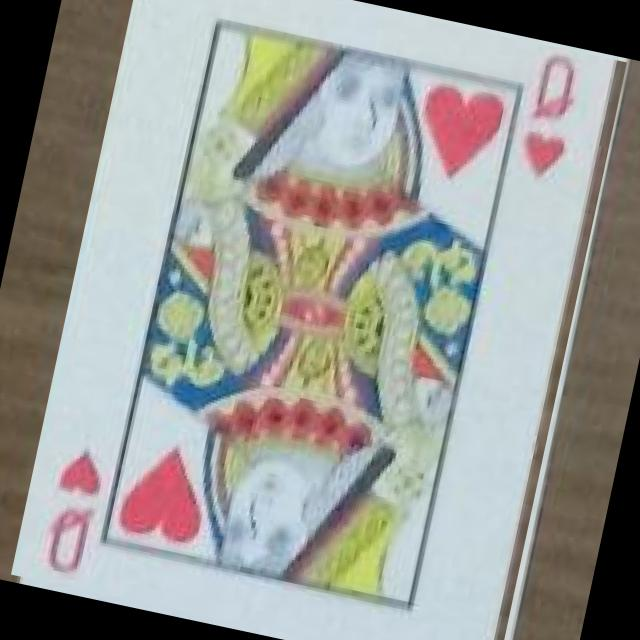Queen of hearts: (10, 0, 626, 640)
